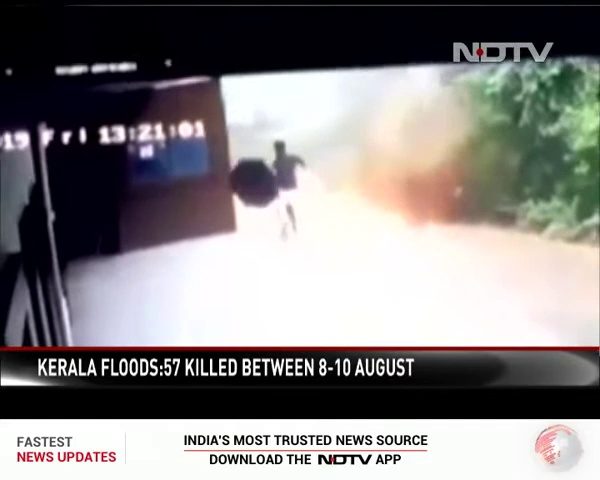person: (267, 139, 308, 237)
